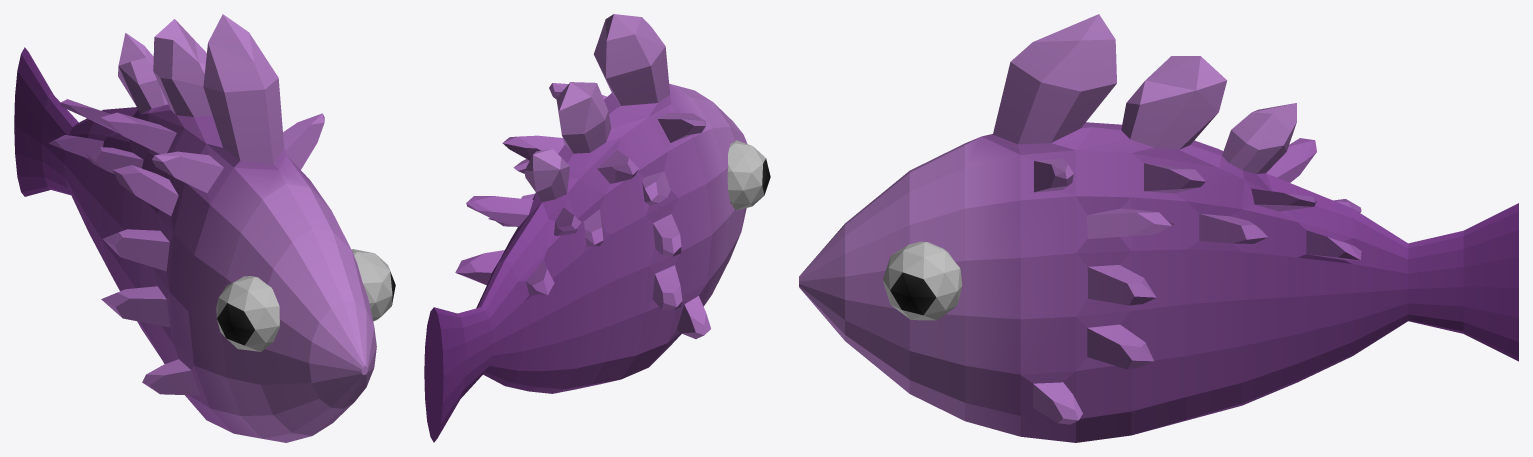
The model's file is crystal_fish.glb.
3 renders of one model, left to right at view 1: azimuth 30°, elevation 25°; view 2: azimuth 150°, elevation 25°; view 3: azimuth 270°, elevation 25°, orthographic. The views are drawn at different scales.
Visible parts, largest first — view 1: Cylinder.040, eye.shaded.046, eye.shaded.045; view 2: Cylinder.040, eye.shaded.046; view 3: Cylinder.040, eye.shaded.045.
Part boxes in pixels (x1,y1,x2,y2): Cylinder.040: [14, 14, 376, 442]; eye.shaded.046: [216, 276, 279, 351]; eye.shaded.045: [351, 249, 395, 321]; Cylinder.040: [424, 14, 747, 442]; eye.shaded.046: [727, 140, 770, 210]; Cylinder.040: [799, 14, 1518, 442]; eye.shaded.045: [882, 241, 962, 320].
Size of the model in its own units: 0.7476 by 1.5 by 2.29.
Materials: 3 (3 with a texture image).
